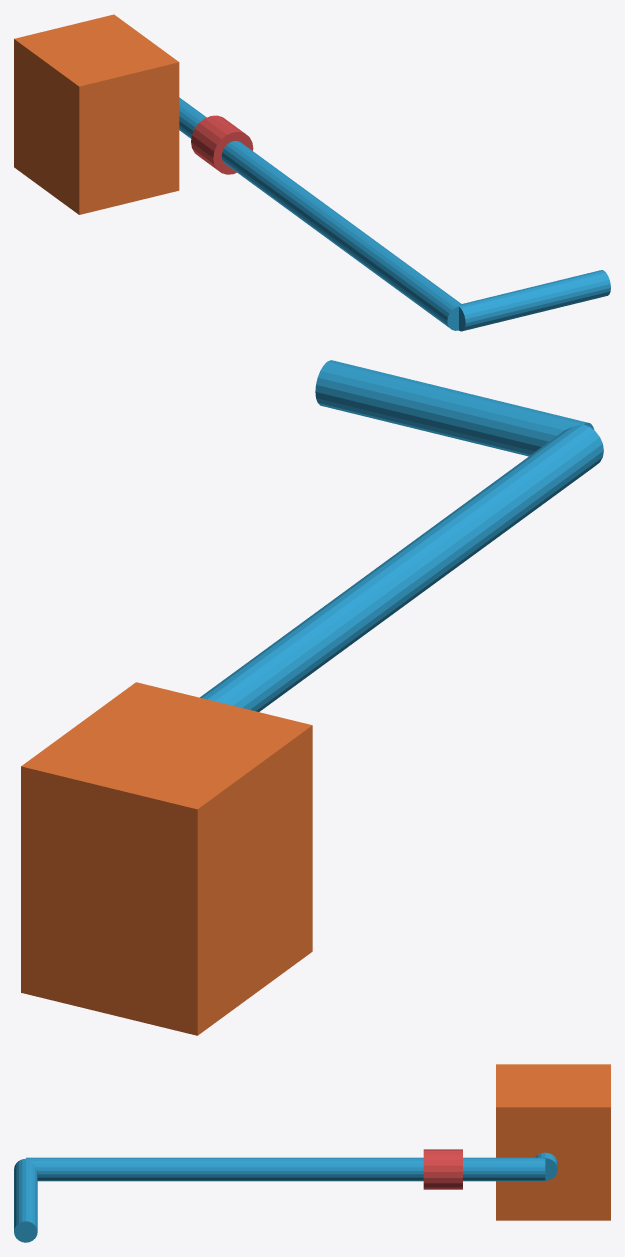
File: MotionReady_Tank_Pump_Housing.obj
The picture shows the model from 3 angles, top to bottom: view 1: azimuth 30°, elevation 25°; view 2: azimuth 150°, elevation 25°; view 3: azimuth 270°, elevation 25°; orthographic projection. The views are drawn at different scales.
Parts seen in each view (by area): view 1: Tank_Pump_Housing, Tank_Fill_Pipe, Tank_Pipe_Valve; view 2: Tank_Pump_Housing, Tank_Fill_Pipe; view 3: Tank_Pump_Housing, Tank_Fill_Pipe, Tank_Pipe_Valve.
Part boxes in pixels (x1=…): Tank_Pump_Housing: x1=14, y1=14, x2=179, y2=214; Tank_Fill_Pipe: x1=179, y1=97, x2=610, y2=331; Tank_Pipe_Valve: x1=191, y1=115, x2=253, y2=174; Tank_Pump_Housing: x1=21, y1=682, x2=312, y2=1035; Tank_Fill_Pipe: x1=200, y1=360, x2=603, y2=711; Tank_Pump_Housing: x1=496, y1=1064, x2=610, y2=1220; Tank_Fill_Pipe: x1=14, y1=1152, x2=557, y2=1242; Tank_Pipe_Valve: x1=423, y1=1149, x2=462, y2=1189.
Bounding box in the file's own units: 800 × 380 × 1816.
